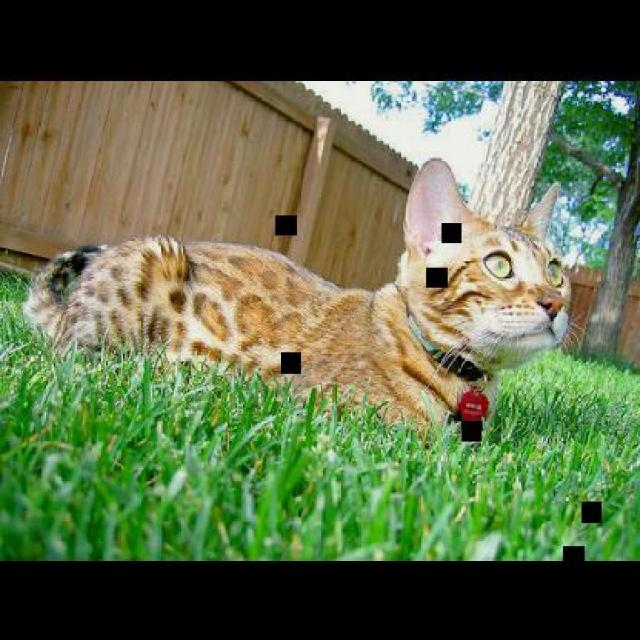unauthorized: (20, 156, 580, 447)
